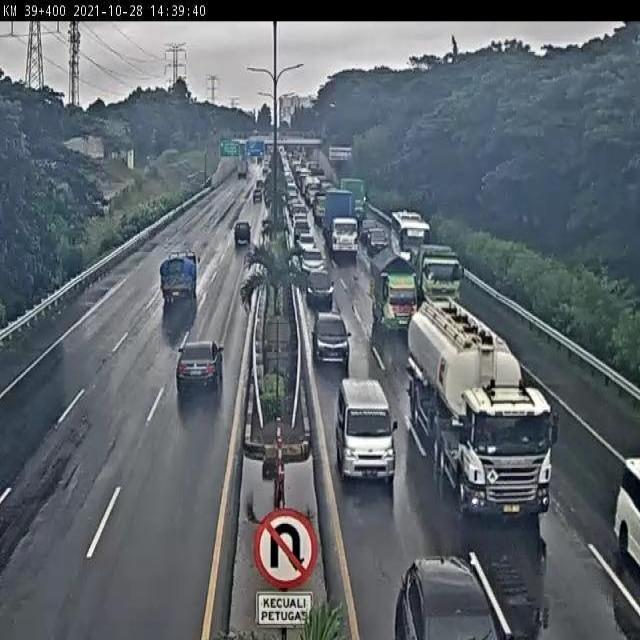Bus: (390, 210, 429, 255)
Car: (390, 553, 514, 640), (614, 458, 640, 581), (176, 339, 223, 398), (312, 309, 350, 367), (303, 264, 333, 310), (360, 220, 389, 255), (293, 217, 311, 245), (312, 192, 326, 225), (234, 221, 251, 246), (253, 182, 263, 202)
Truck: (404, 297, 560, 524), (368, 247, 416, 337), (413, 244, 462, 308), (158, 250, 201, 306), (322, 219, 362, 257), (339, 178, 367, 222), (238, 159, 248, 178)
Van: (334, 379, 396, 484)
